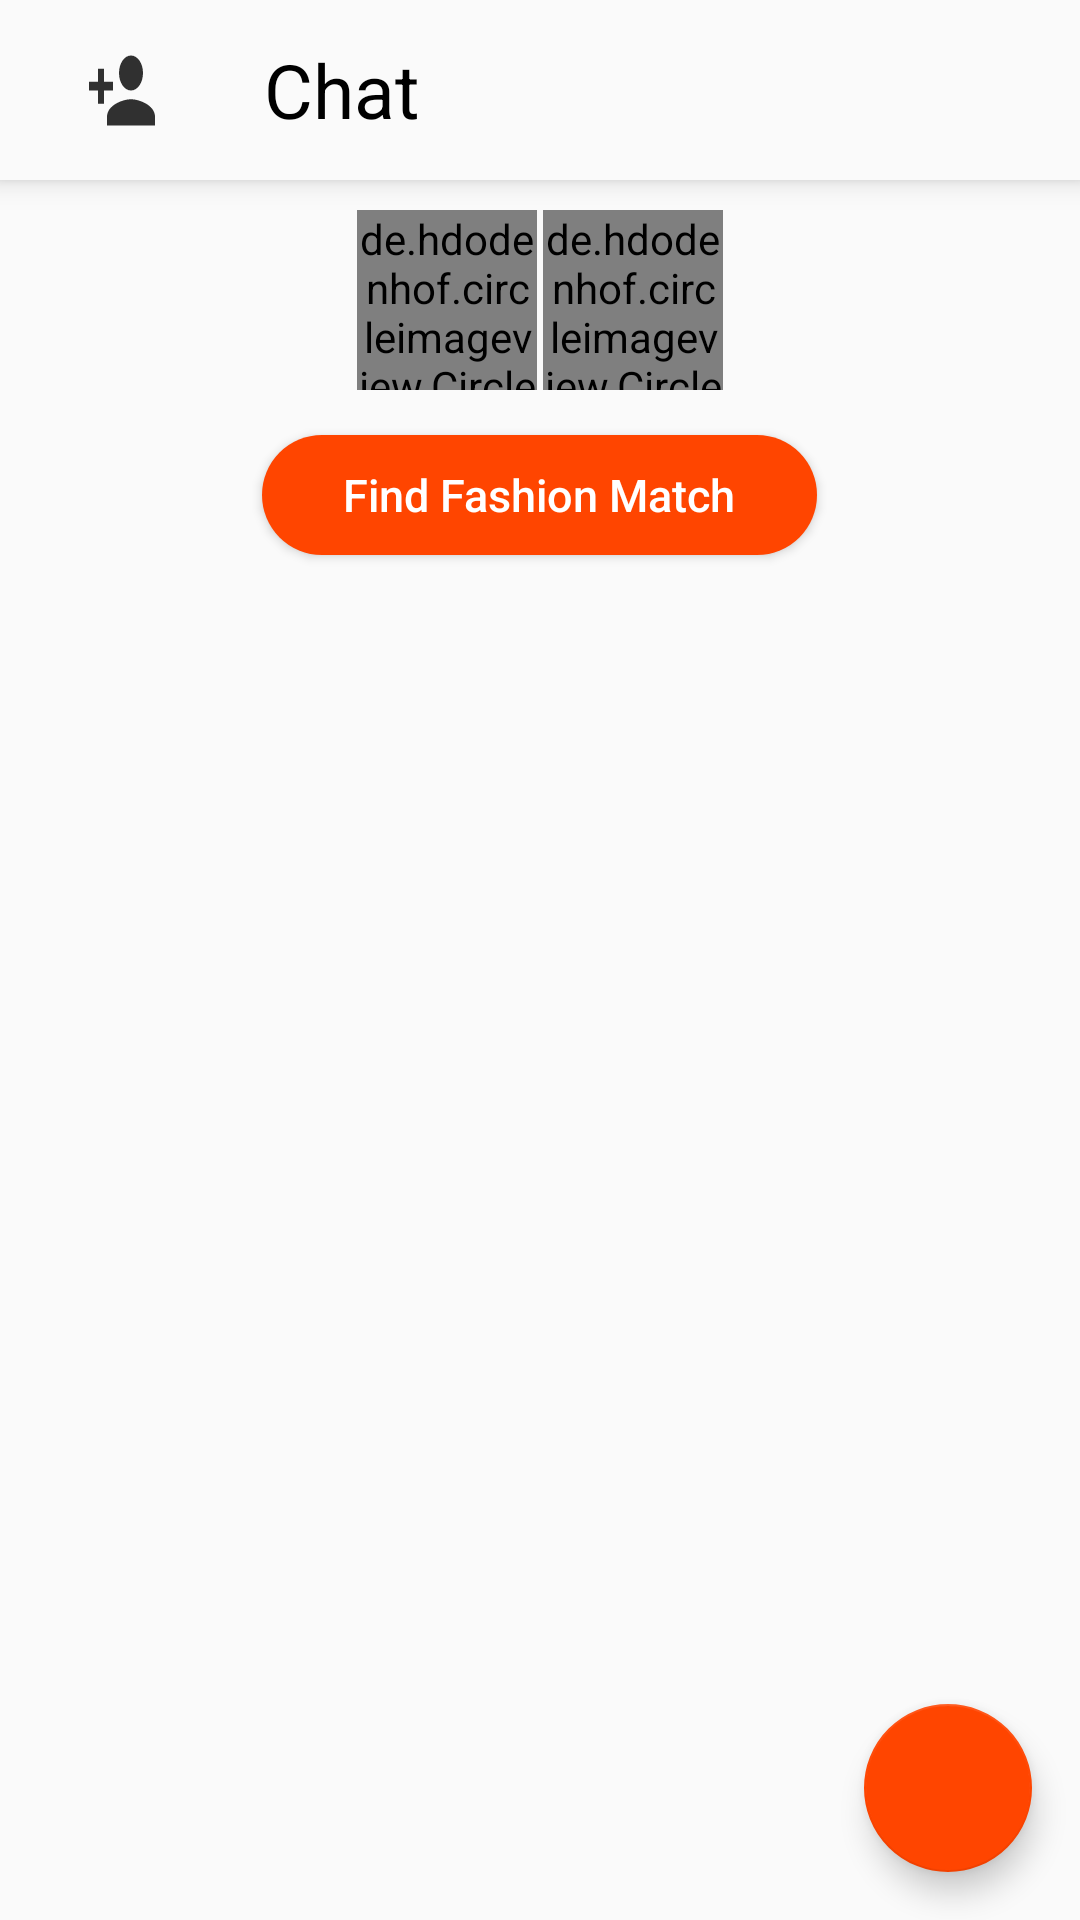

Point at icon controls on the screen. Image size 1080x1920, points as [x,y].
add person: [122,90]
